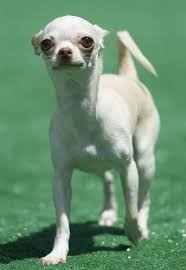chihuahua: (14, 7, 161, 243)
